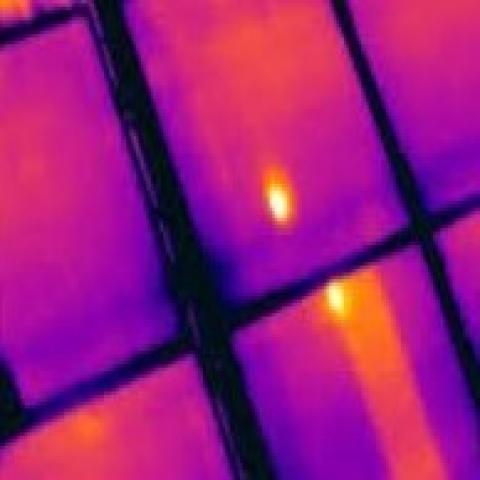fault: (267, 184, 290, 221), (326, 283, 346, 313)
